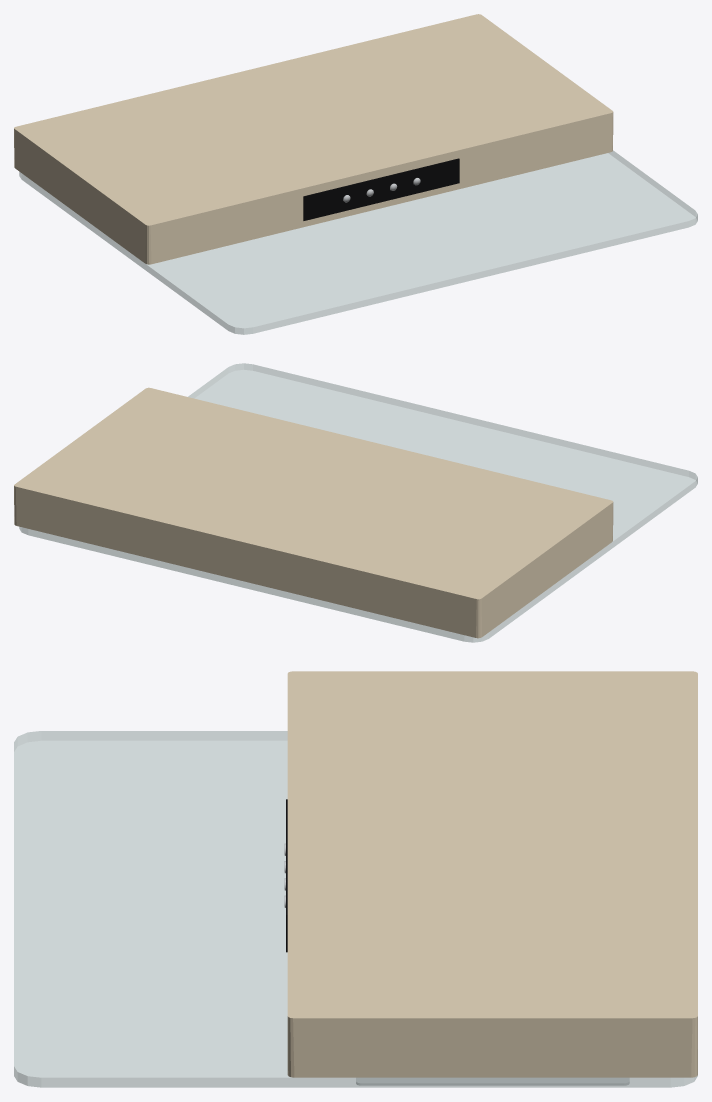
Rendered from a_hood_tglass_3.glb.
3 views of the same model, one above another, from view 1: azimuth 30°, elevation 25°; view 2: azimuth 150°, elevation 25°; view 3: azimuth 270°, elevation 25° (orthographic). The views are drawn at different scales.
Parts seen in each view (by area): view 1: o, o.001, o.014; view 2: o, o.001; view 3: o, o.001, o.008.
Part boxes in pixels (x1,y1,x2,y2): o: [14, 14, 613, 264]; o.001: [19, 150, 697, 334]; o.014: [303, 158, 459, 220]; o: [14, 387, 613, 638]; o.001: [19, 363, 697, 642]; o: [287, 671, 697, 1077]; o.001: [14, 731, 697, 1087]; o.008: [356, 1078, 629, 1085].
Bounding box in the file's own units: 0.6 × 0.0622 × 0.5.
